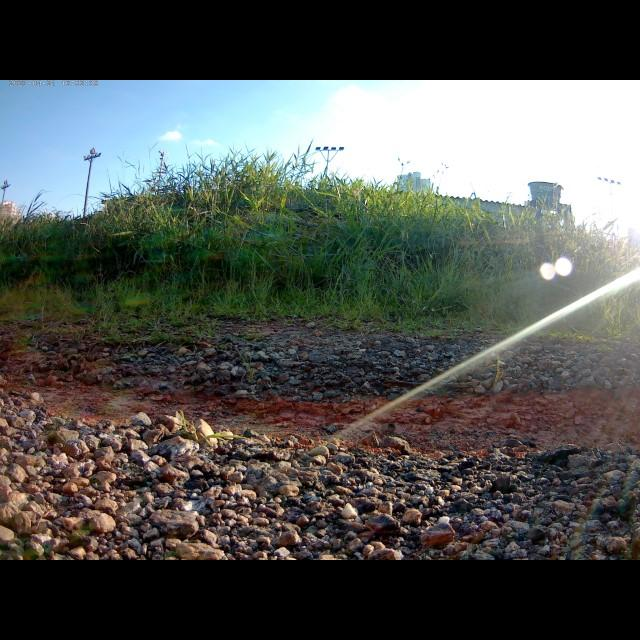ravina: (3, 330, 640, 464)
